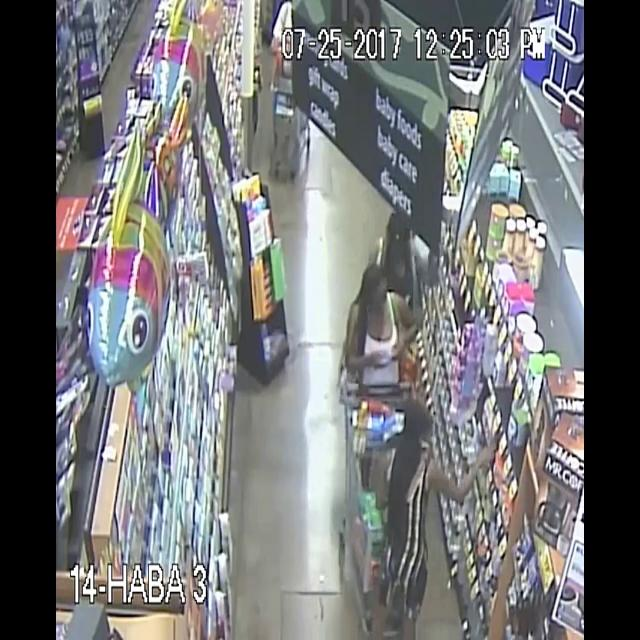Product: (480, 419, 501, 476)
normal: (336, 243, 458, 403), (375, 175, 418, 268)
shoplifting: (370, 390, 508, 640)
